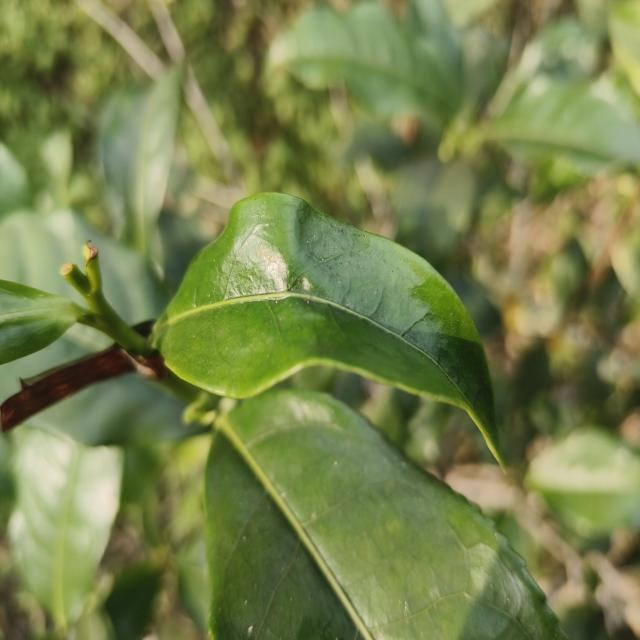Leaf: (152, 193, 499, 459), (206, 390, 565, 640), (269, 3, 461, 125), (9, 428, 123, 628), (98, 67, 182, 255), (486, 76, 640, 173), (526, 428, 640, 537), (0, 280, 86, 364)
